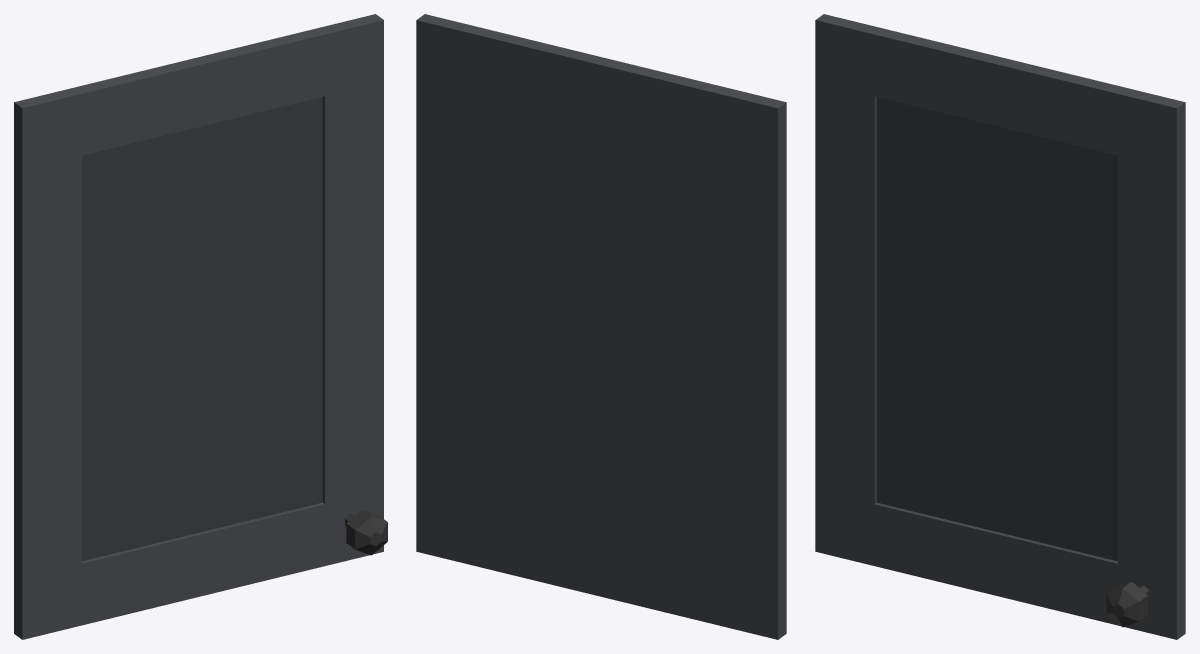
The model's file is Wardrobe7_C2_05.fbx.
3 renders of one model, left to right at view 1: azimuth 30°, elevation 25°; view 2: azimuth 150°, elevation 25°; view 3: azimuth 330°, elevation 25°, orthographic.
Parts seen in each view (by area): view 1: Wardrobe7_C2_05; view 2: Wardrobe7_C2_05; view 3: Wardrobe7_C2_05.
Boxes of the visible parts, x1,y1,x2,y2 form: Wardrobe7_C2_05: (14,14,387,639); Wardrobe7_C2_05: (416,14,786,639); Wardrobe7_C2_05: (815,14,1185,639).
Size of the model in its own units: 50 by 70.23 by 8.1.
